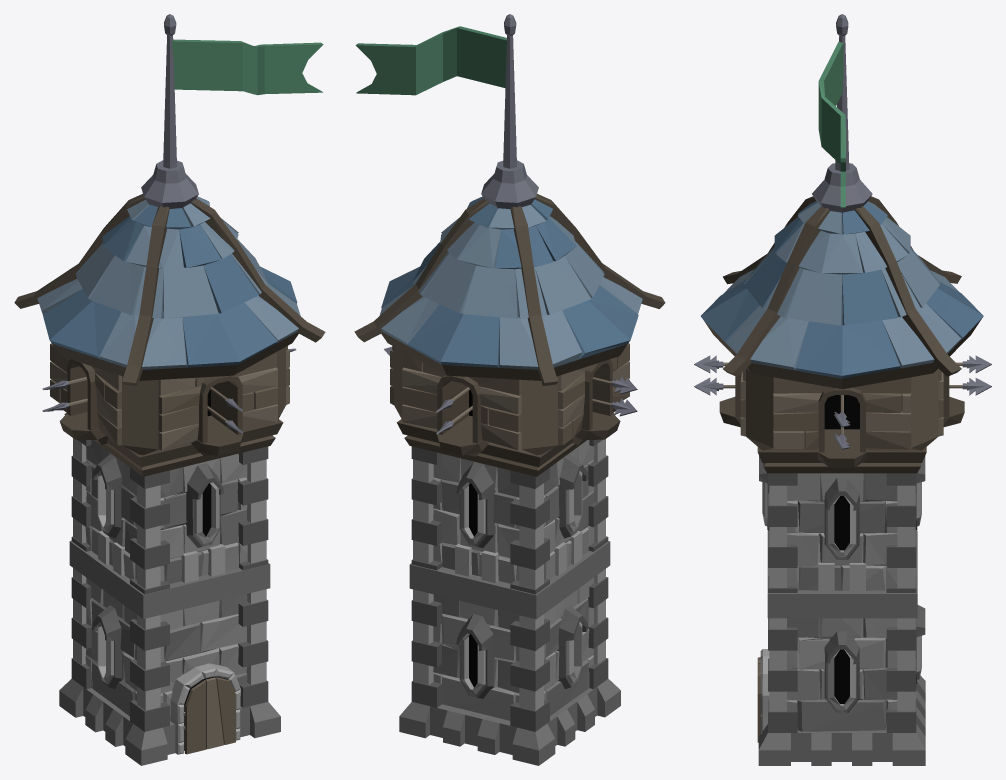
The model's file is _archers_tower_LVL_3.fbx.
3 views of the same model, side by side, from view 1: azimuth 30°, elevation 25°; view 2: azimuth 150°, elevation 25°; view 3: azimuth 270°, elevation 25° (orthographic).
Visible parts, largest first — view 1: archers_tower_LVL_3; view 2: archers_tower_LVL_3; view 3: archers_tower_LVL_3.
Boxes of the visible parts, left/top/right/bottom form: archers_tower_LVL_3: left=14, top=14, right=325, bottom=765; archers_tower_LVL_3: left=354, top=14, right=665, bottom=765; archers_tower_LVL_3: left=694, top=14, right=991, bottom=765.
Bounding box in the file's own units: 841 × 2021 × 761.
